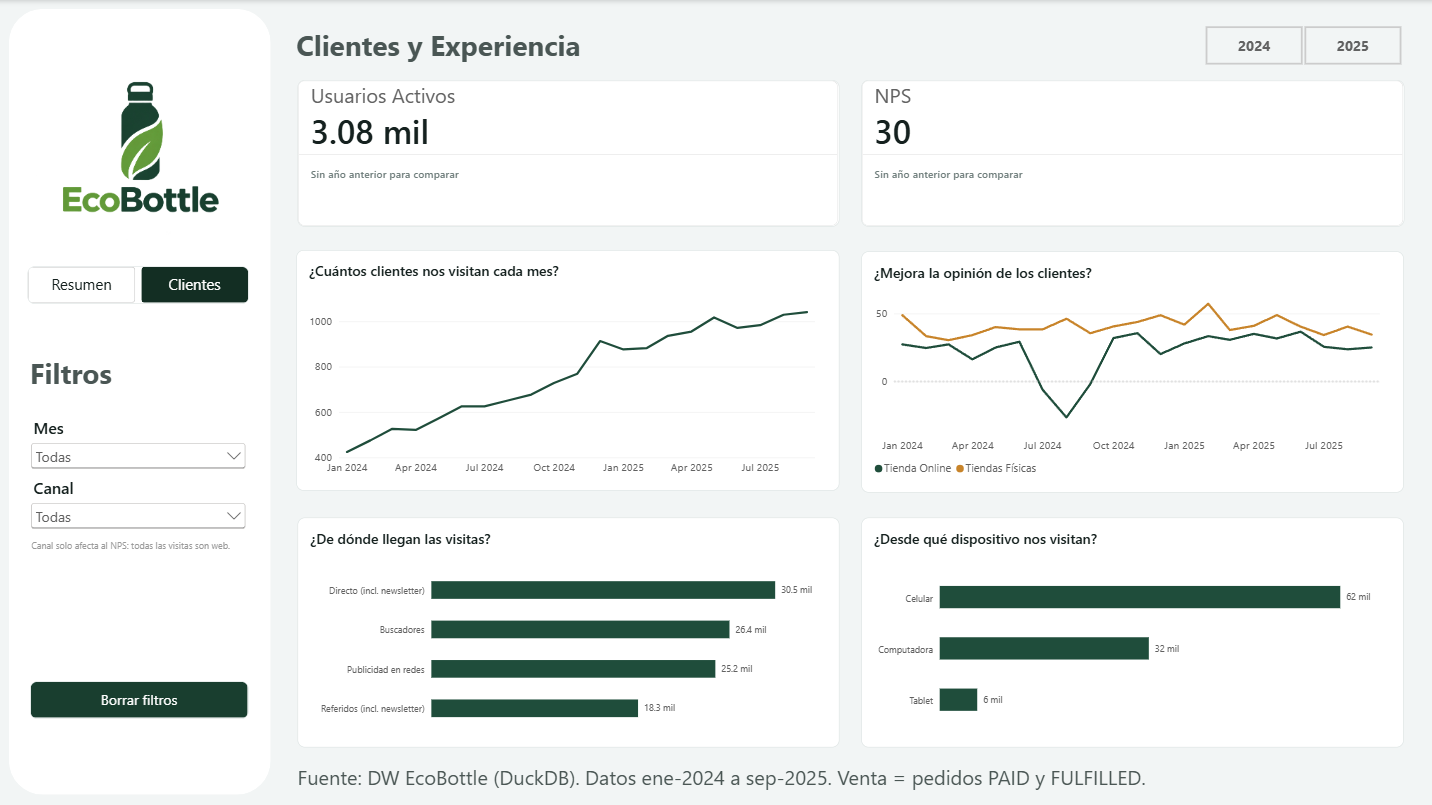

The page's visual inventory and layout, read from the dashboard file:
{"tool":"powerbi","page":{"name":"Clientes","canvas":[1920,1080],"ordinal":1},"visuals":[{"type":"cardVisual","fields":{"Data":["fact_web_session.Usuarios Activos"]},"box":[398.2,107.3,723.6,196.4],"z":1000},{"type":"cardVisual","fields":{"Data":["fact_nps_response.NPS"]},"box":[1150.9,107.3,725.5,196.4],"z":3000},{"type":"shape","box":[12.5,12.5,350,1050],"z":4000},{"type":"image","box":[40,42.5,295,312.5],"z":5000},{"type":"textbox","box":[40,472.5,160,65],"z":6000},{"type":"pageNavigator","box":[36,356,296,50],"z":7000},{"type":"actionButton","box":[40,910,292,50],"z":12000},{"type":"textbox","box":[396.4,34.5,580,67.3],"z":13000},{"type":"textbox","box":[398,1020,1224,54],"z":19000},{"type":"lineChart","title":"¿Cuántos clientes nos visitan cada mes?","fields":{"Category":["dim_date.year_month"],"Y":["fact_web_session.Usuarios Activos"]},"box":[396.4,334.5,725.5,321.8],"z":20001},{"type":"lineChart","title":"¿Mejora la opinión de los clientes?","fields":{"Category":["dim_date.year_month"],"Series":["dim_channel.name"],"Y":["fact_nps_response.NPS"]},"box":[1151,335,725,322],"z":20002},{"type":"clusteredBarChart","title":"¿De dónde llegan las visitas?","fields":{"Category":["dim_traffic_source.description"],"Y":["fact_web_session.Sesiones"]},"box":[398.2,690.9,723.6,307.3],"z":20003},{"type":"clusteredBarChart","title":"¿Desde qué dispositivo nos visitan?","fields":{"Category":["dim_device.description"],"Y":["fact_web_session.Sesiones"]},"box":[1151,691,725,307],"z":20004},{"type":"slicer","fields":{"Values":["dim_date.year"]},"box":[1590.9,34.5,300,50.9],"z":20005},{"type":"slicer","fields":{"Values":["dim_date.month_name"]},"box":[36,556,296,80],"z":20006},{"type":"slicer","fields":{"Values":["dim_channel.name"]},"box":[36,636,296,82],"z":20007},{"type":"textbox","box":[42,718,292,66],"z":20008}]}

Visuals, with their boxes in screenshot pixels (x1, y1, x2, y2), scaled from the page's 1920x1080 canvas onto the 1432x805 screenshot:
cardVisual - fact_web_session.Usuarios Activos: (left=297, top=80, right=837, bottom=226)
cardVisual - fact_nps_response.NPS: (left=858, top=80, right=1399, bottom=226)
shape: (left=9, top=9, right=270, bottom=792)
image: (left=30, top=32, right=250, bottom=265)
textbox: (left=30, top=352, right=149, bottom=401)
pageNavigator: (left=27, top=265, right=248, bottom=303)
actionButton: (left=30, top=678, right=248, bottom=716)
textbox: (left=296, top=26, right=728, bottom=76)
textbox: (left=297, top=760, right=1210, bottom=801)
"¿Cuántos clientes nos visitan cada mes?" lineChart: (left=296, top=249, right=837, bottom=489)
"¿Mejora la opinión de los clientes?" lineChart: (left=858, top=250, right=1399, bottom=490)
"¿De dónde llegan las visitas?" clusteredBarChart: (left=297, top=515, right=837, bottom=744)
"¿Desde qué dispositivo nos visitan?" clusteredBarChart: (left=858, top=515, right=1399, bottom=744)
slicer - dim_date.year: (left=1187, top=26, right=1410, bottom=64)
slicer - dim_date.month_name: (left=27, top=414, right=248, bottom=474)
slicer - dim_channel.name: (left=27, top=474, right=248, bottom=535)
textbox: (left=31, top=535, right=249, bottom=584)
